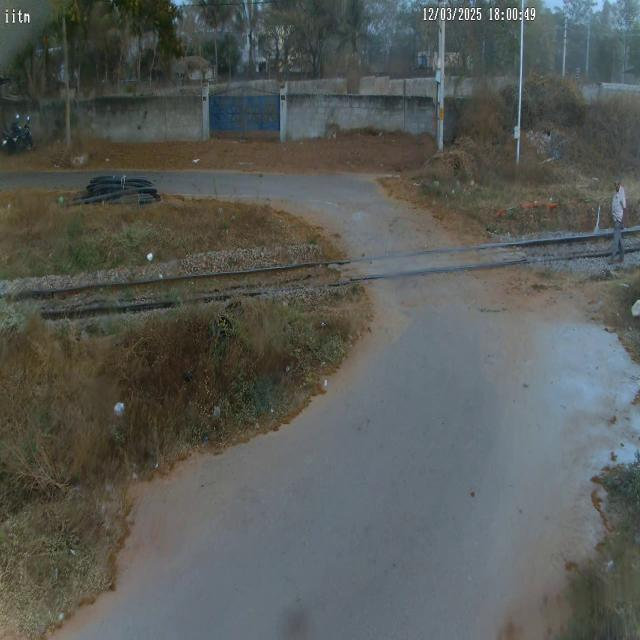objects: (604, 176, 628, 266)
